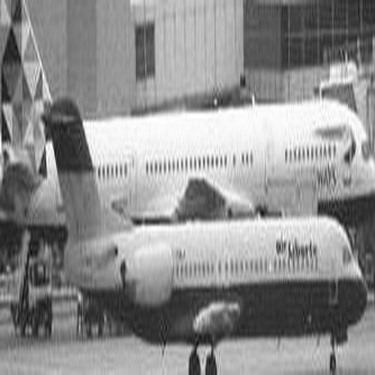airplane: (24, 85, 370, 371), (2, 1, 373, 238)
